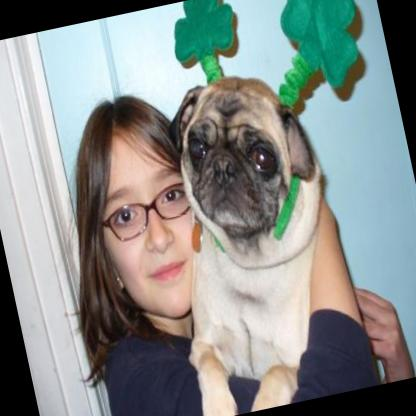pug: (130, 57, 369, 416)
